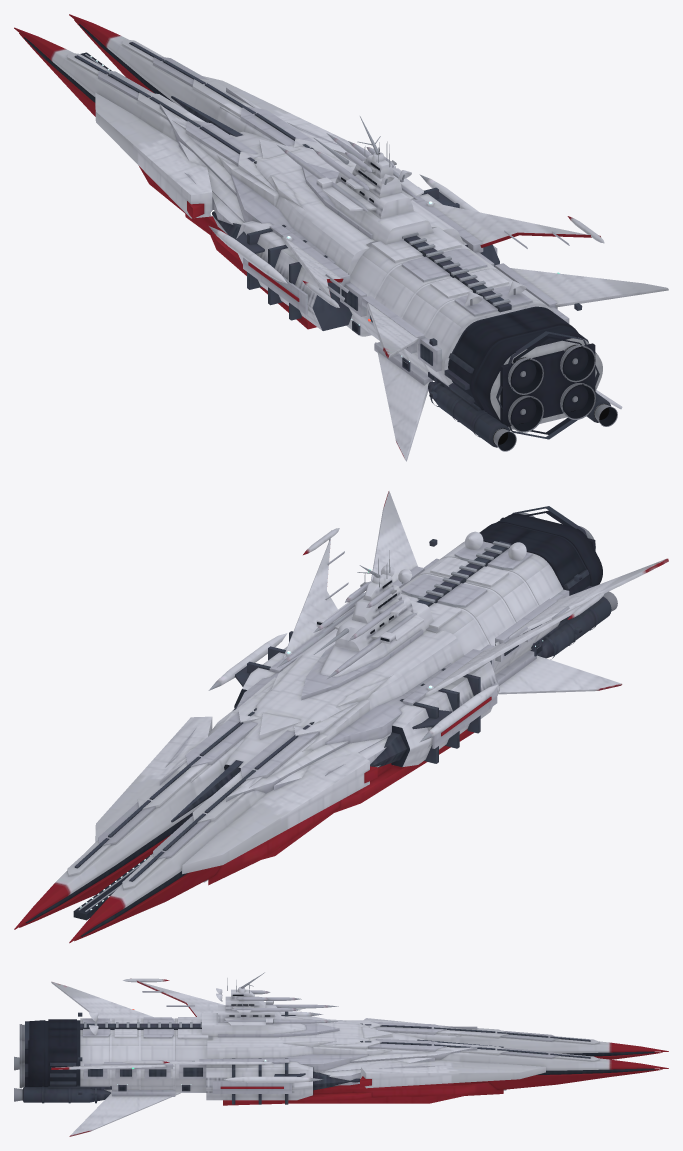
The model's file is ship-arcadia.glb.
The picture shows the model from 3 angles, top to bottom: view 1: azimuth 30°, elevation 25°; view 2: azimuth 150°, elevation 25°; view 3: azimuth 270°, elevation 25°; orthographic projection. The views are drawn at different scales.
Visible parts, largest first — view 1: Hull, Wings, Engine, Tower; view 2: Hull, Wings, Tower, Engine; view 3: Hull, Wings, Tower, Engine.
Part boxes in pixels (box(x1,y1,x2,y2)): Hull: box(14, 14, 602, 429); Wings: box(95, 76, 668, 461); Engine: box(428, 331, 617, 451); Tower: box(277, 116, 433, 244); Hull: box(14, 513, 602, 943); Wings: box(95, 491, 668, 885); Tower: box(277, 550, 433, 679); Engine: box(500, 506, 617, 659); Hull: box(28, 1009, 668, 1105); Wings: box(51, 978, 545, 1136); Tower: box(202, 972, 338, 1036); Engine: box(14, 1021, 111, 1103).
Size of the model in its own units: 0.3228 by 0.2277 by 1.03.
5 materials, 1 textured.
